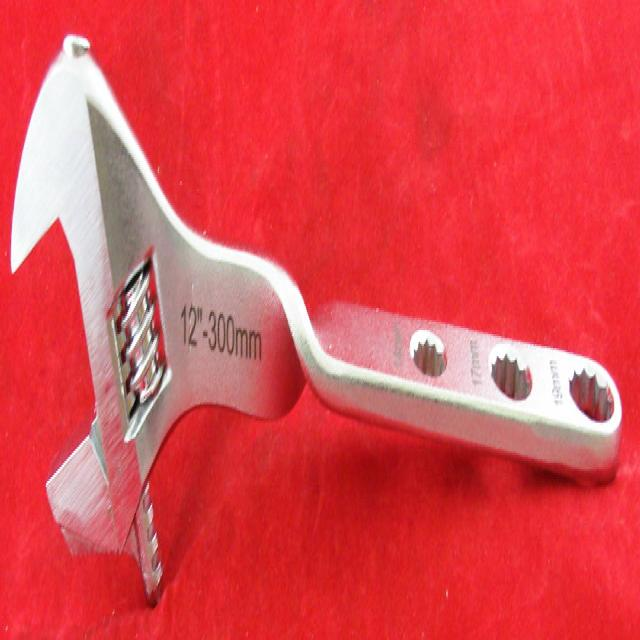wrench: (0, 14, 636, 512)
